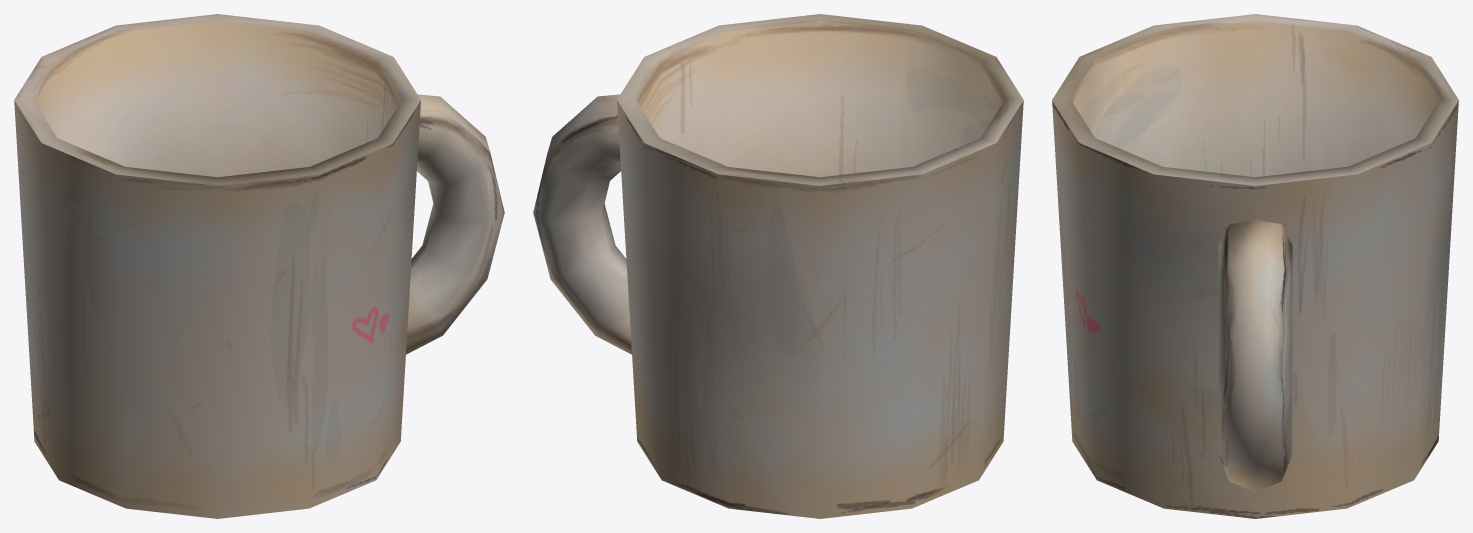
The model's file is mug.fbx.
3 views of the same model, side by side, from view 1: azimuth 30°, elevation 25°; view 2: azimuth 150°, elevation 25°; view 3: azimuth 270°, elevation 25° (orthographic).
Visible parts, largest first — view 1: mug; view 2: mug; view 3: mug.
Part boxes in pixels (bbox=[...]): mug: bbox=[14, 14, 504, 518]; mug: bbox=[533, 14, 1023, 518]; mug: bbox=[1052, 14, 1458, 518].
Size of the model in its own units: 143 by 105 by 110.
